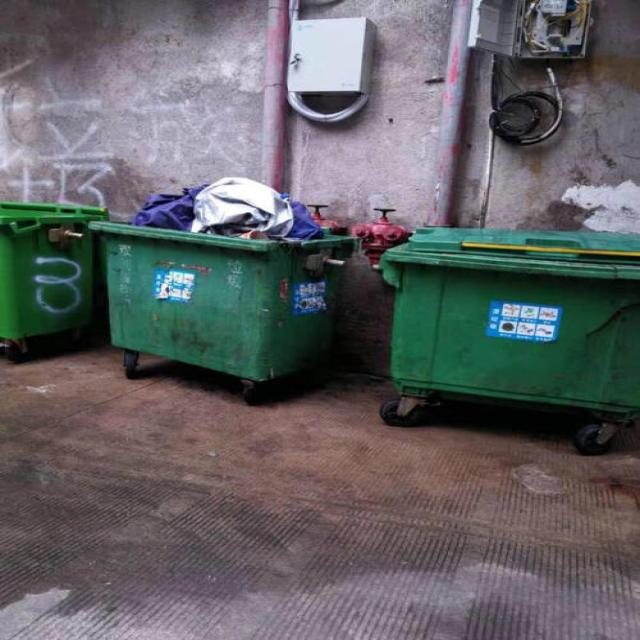garbage_bin: (375, 225, 639, 412), (0, 203, 108, 337)
overflow: (88, 177, 356, 380)
